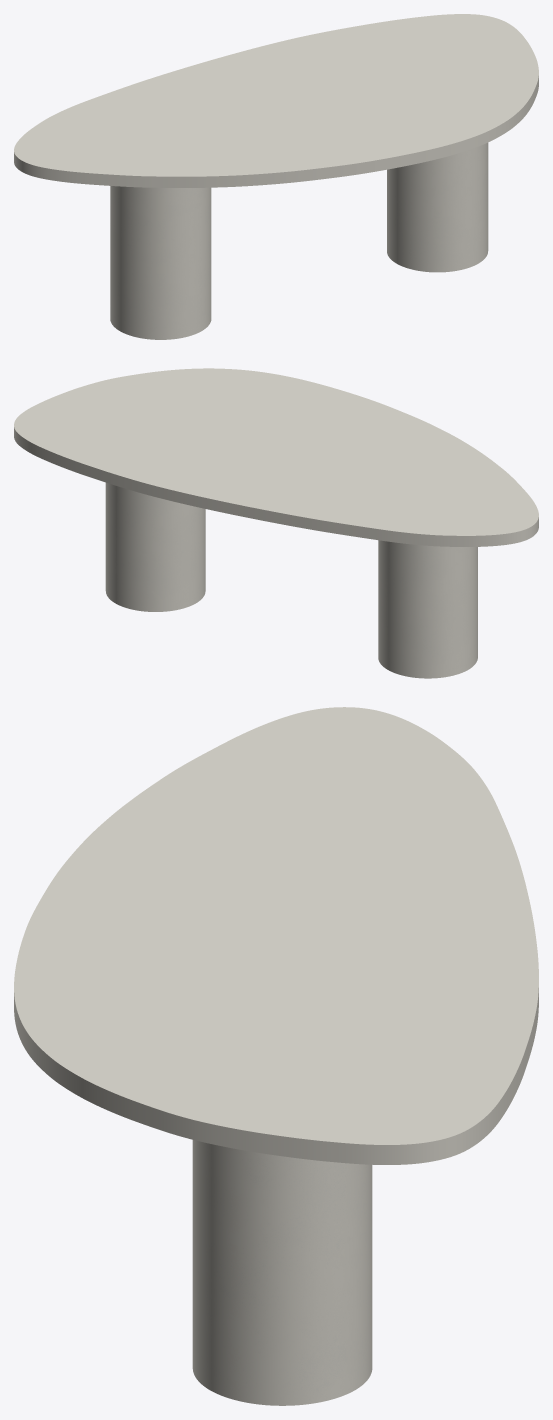
File: pale_pebbletop_standard_stream.glb
The picture shows the model from 3 angles, top to bottom: view 1: azimuth 30°, elevation 25°; view 2: azimuth 150°, elevation 25°; view 3: azimuth 270°, elevation 25°; orthographic projection. The views are drawn at different scales.
Parts seen in each view (by area): view 1: standard_pebbletop, stream; view 2: standard_pebbletop, stream; view 3: standard_pebbletop, stream.
Part boxes in pixels (box(x1,y1,x2,y2)): standard_pebbletop: box(14, 14, 538, 187); stream: box(110, 142, 488, 339); standard_pebbletop: box(14, 368, 538, 546); stream: box(105, 482, 477, 678); standard_pebbletop: box(14, 707, 538, 1164); stream: box(192, 1140, 372, 1405).
Bounding box in the file's own units: 7.5 × 2.51 × 3.8.
Materials: 1 (1 with a texture image).
